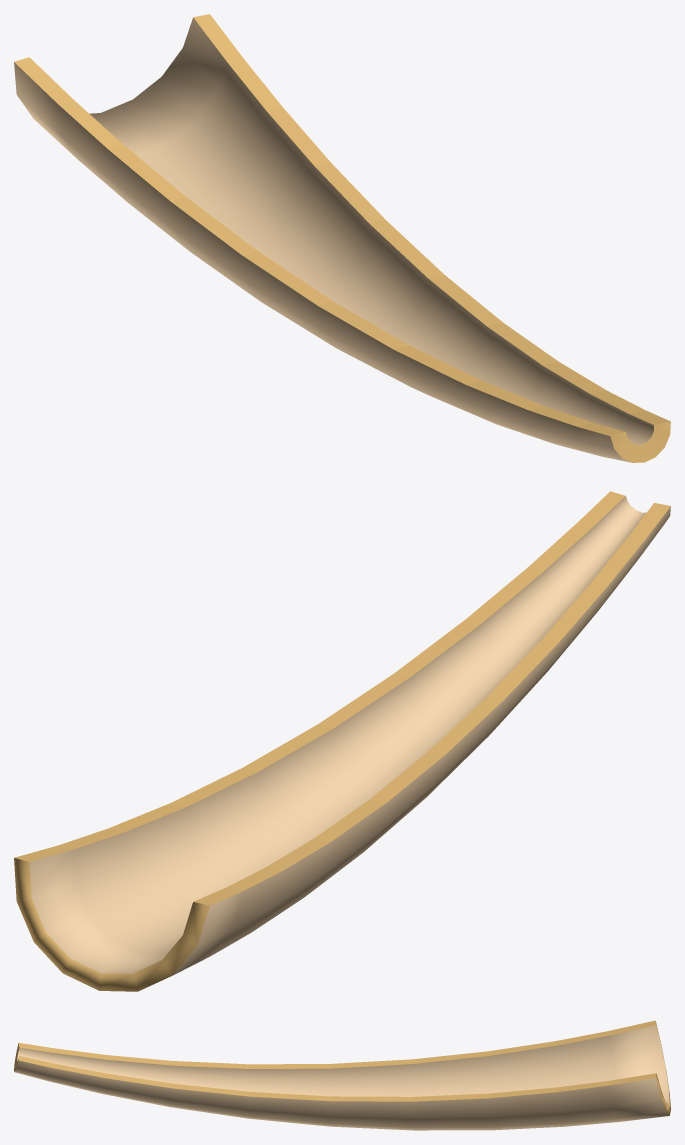
File: seashell4.fbx
3 views of the same model, one above another, from view 1: azimuth 30°, elevation 25°; view 2: azimuth 150°, elevation 25°; view 3: azimuth 270°, elevation 25° (orthographic). The views are drawn at different scales.
Visible parts, largest first — view 1: seashell4; view 2: seashell4; view 3: seashell4.
Boxes of the visible parts, <box> form: seashell4: <box>14,14,670,462</box>; seashell4: <box>14,491,670,991</box>; seashell4: <box>14,1020,670,1130</box>.
Size of what is drawn, in the model's own units: 11.98 by 57.69 by 7.44.
